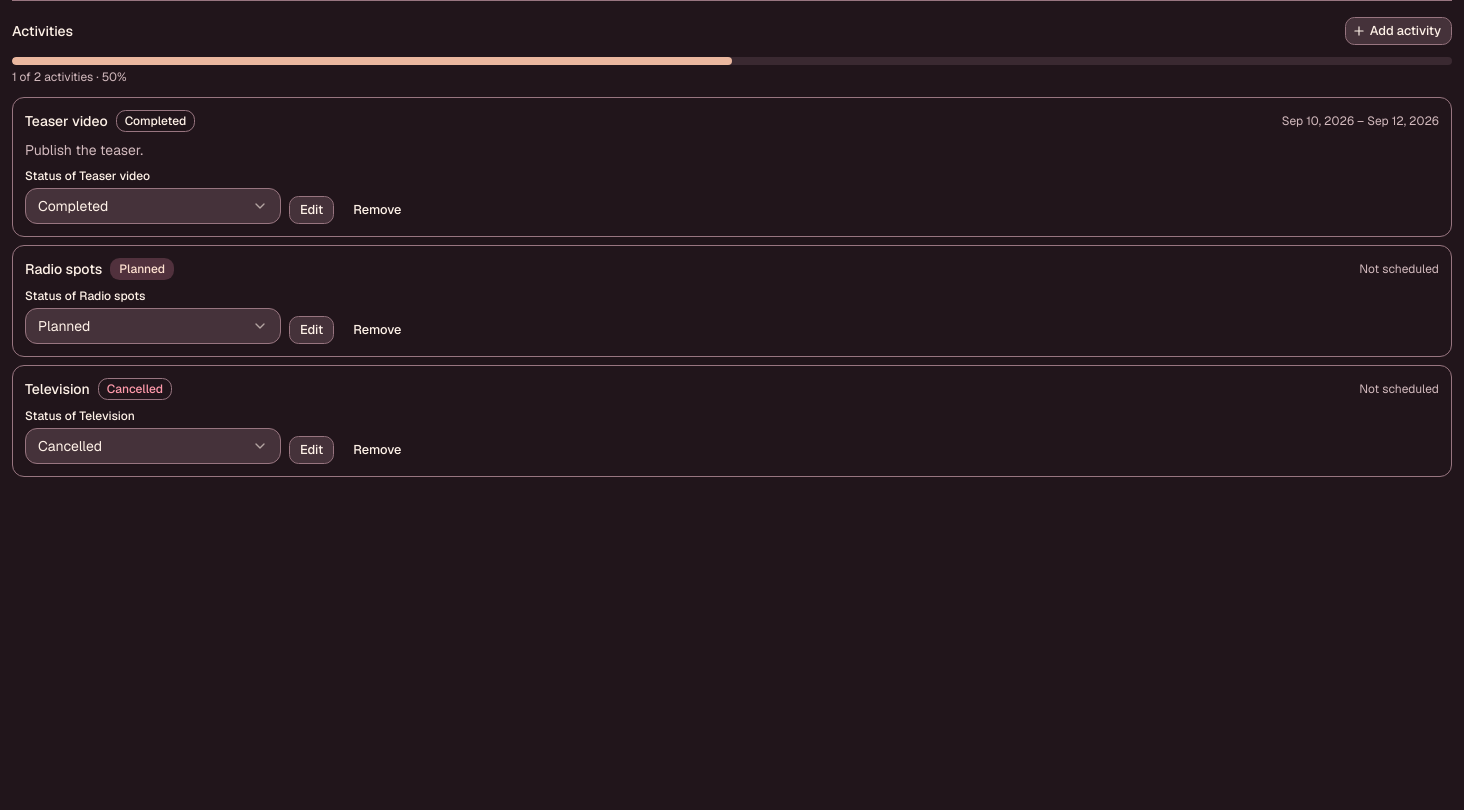
Test: CampaignActivities › editing › shows the schedule of the activity being edited in datetime fields
Check: the text "Teaser video" is shown, box top-left (25, 111), bottom-right (108, 131)
Click the button with aria-label "Edit Teaser video": (312, 210) top-left (289, 196), bottom-right (334, 224)
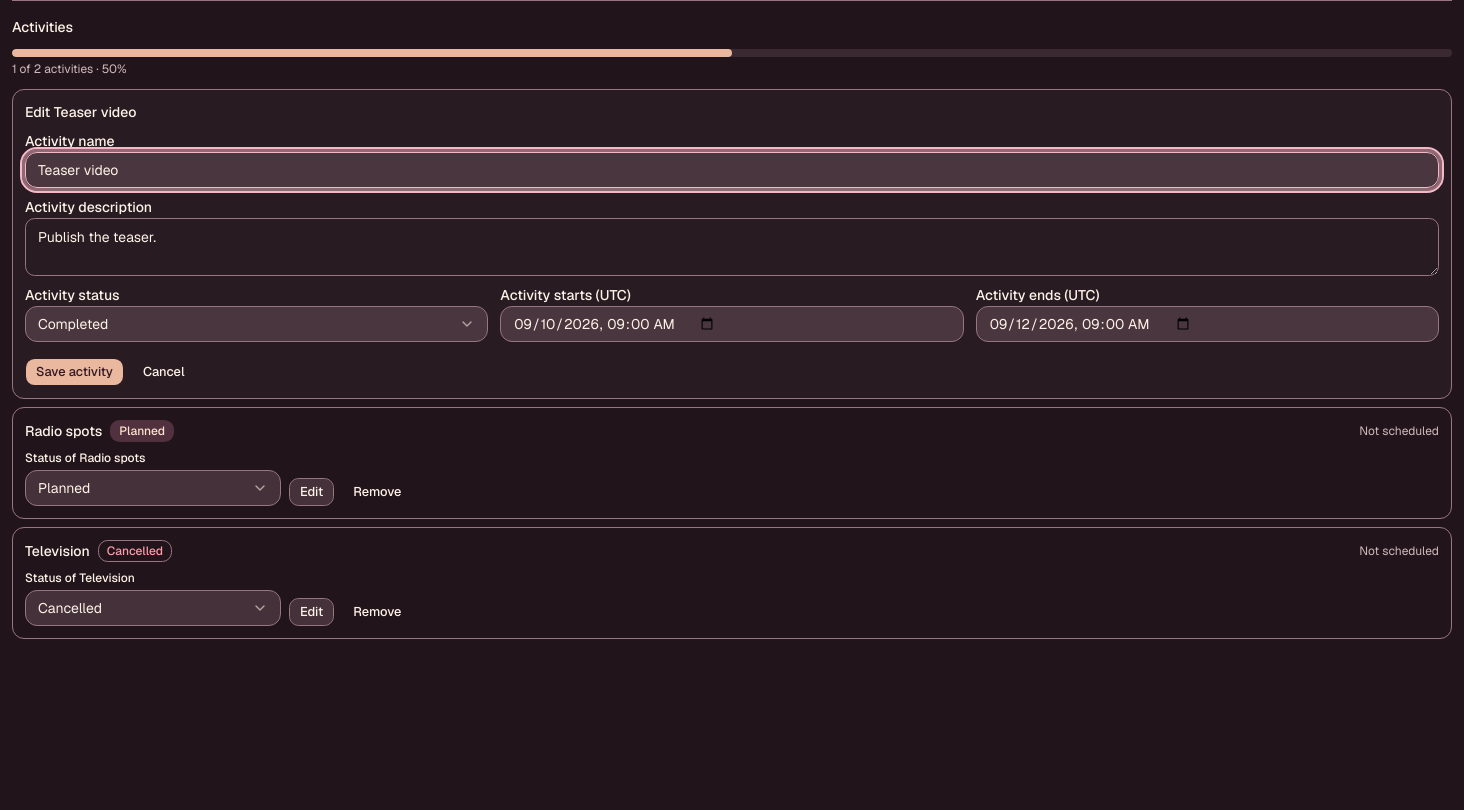
Check: the field labelled "Activity starts (UTC)" holds "2026-09-10T09:00", box top-left (500, 306), bottom-right (964, 342)
Check: the field labelled "Activity ends (UTC)" holds "2026-09-12T09:00", box top-left (976, 306), bottom-right (1439, 342)
